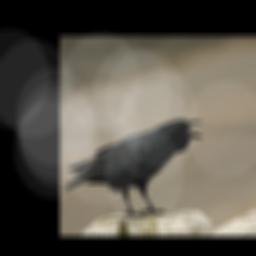Crow: (63, 119, 202, 218)
